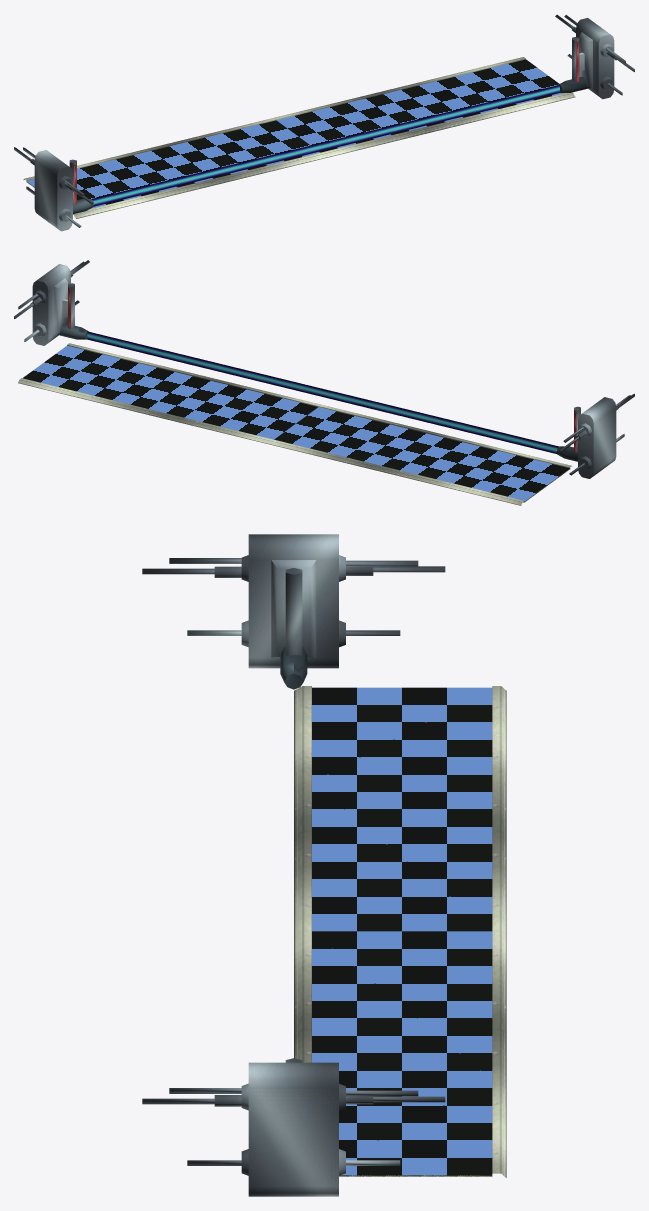
File: meta.obj
3 views of the same model, one above another, from view 1: azimuth 30°, elevation 25°; view 2: azimuth 150°, elevation 25°; view 3: azimuth 270°, elevation 25° (orthographic). The views are drawn at different scales.
Parts seen in each view (by area): view 1: C03_ST_FLAG_gxmat70, C03_ST_FLAG_gxmat75, C03_ST_FLAG_gxmat73, GROBJ_A_LOD.001_gxmat239.001, GROBJ_A_LOD_gxmat239, C03_ST_FLAG_gxmat76; view 2: C03_ST_FLAG_gxmat70, C03_ST_FLAG_gxmat75, C03_ST_FLAG_gxmat73, GROBJ_A_LOD.001_gxmat239.001, GROBJ_A_LOD_gxmat239, C03_ST_FLAG_gxmat76; view 3: C03_ST_FLAG_gxmat70, GROBJ_A_LOD_gxmat239, GROBJ_A_LOD.001_gxmat239.001, C03_ST_FLAG_gxmat75, GROBJ_B_LOD_gxmat242.
Part boxes in pixels (x1,y1,x2,y2): C03_ST_FLAG_gxmat70: (26, 59, 563, 208); C03_ST_FLAG_gxmat75: (23, 57, 575, 218); C03_ST_FLAG_gxmat73: (92, 85, 559, 206); GROBJ_A_LOD.001_gxmat239.001: (14, 147, 93, 231); GROBJ_A_LOD_gxmat239: (555, 14, 634, 99); C03_ST_FLAG_gxmat76: (73, 77, 589, 214); C03_ST_FLAG_gxmat70: (23, 345, 569, 501); C03_ST_FLAG_gxmat75: (18, 343, 572, 505); C03_ST_FLAG_gxmat73: (87, 331, 558, 453); GROBJ_A_LOD.001_gxmat239.001: (559, 393, 634, 478); GROBJ_A_LOD_gxmat239: (14, 260, 89, 345); C03_ST_FLAG_gxmat76: (57, 323, 577, 461); C03_ST_FLAG_gxmat70: (312, 687, 492, 1175); GROBJ_A_LOD_gxmat239: (142, 1058, 445, 1196); GROBJ_A_LOD.001_gxmat239.001: (142, 534, 445, 668); C03_ST_FLAG_gxmat75: (294, 686, 506, 1177); GROBJ_B_LOD_gxmat242: (251, 1060, 338, 1184).
Bounding box in the file's own units: 41.04 × 4.61 × 11.62.
